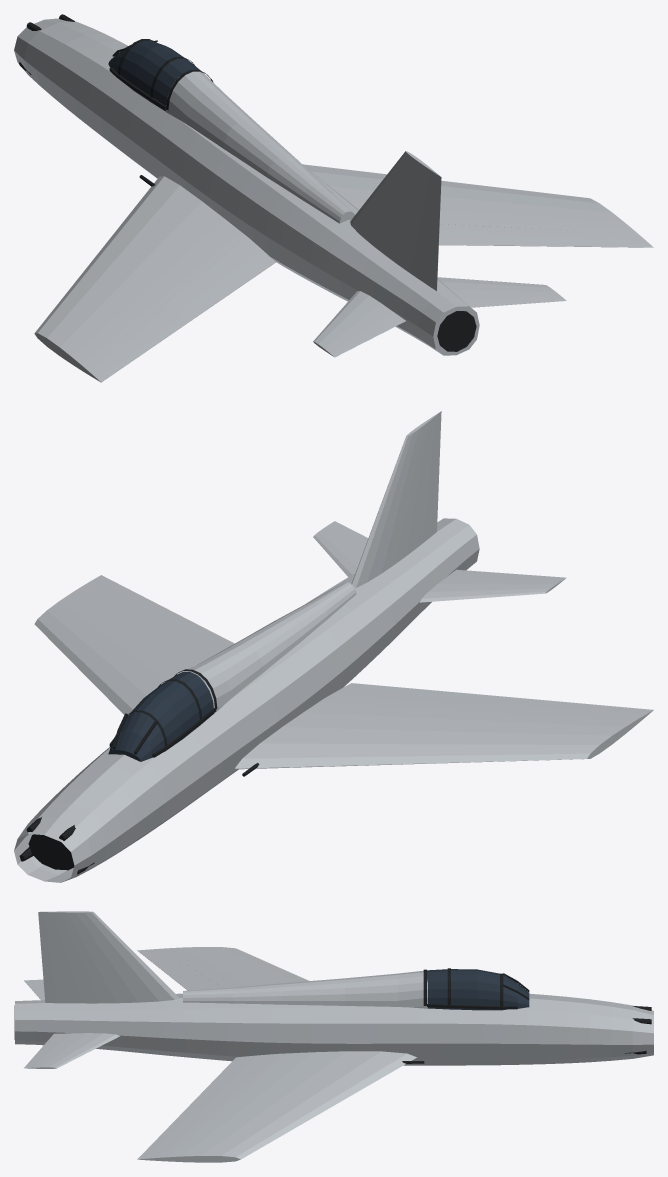
The picture shows the model from 3 angles, top to bottom: view 1: azimuth 30°, elevation 25°; view 2: azimuth 150°, elevation 25°; view 3: azimuth 270°, elevation 25°; orthographic projection. The views are drawn at different scales.
Parts seen in each view (by area): view 1: Fuselage, Wing L, Wing R, Dorsal Fairing, Vertical Fin, Flap L, Elevator L, Rudder, Cockpit Glass, Elevator R, Aileron L, Aileron R (+3 smaller); view 2: Fuselage, Wing L, Wing R, Dorsal Fairing, Vertical Fin, Cockpit Glass, Elevator L, Rudder, Flap L, Aileron L, Elevator R, Aileron R (+3 smaller); view 3: Fuselage, Wing R, Dorsal Fairing, Vertical Fin, Wing L, Rudder, Cockpit Glass, Elevator R, Flap R, Aileron R, Aileron L, Canopy Frame.
Boxes of the visible parts, x1,y1,x2,y2 form: Fuselage: [14, 18, 479, 355]; Wing L: [34, 175, 275, 382]; Wing R: [303, 164, 653, 247]; Dorsal Fairing: [166, 71, 354, 223]; Vertical Fin: [350, 151, 429, 266]; Flap L: [167, 243, 267, 322]; Elevator L: [313, 291, 405, 357]; Rudder: [401, 167, 441, 290]; Cockpit Glass: [108, 40, 202, 111]; Elevator R: [437, 277, 566, 307]; Aileron L: [93, 306, 182, 376]; Aileron R: [491, 226, 638, 247]; Fuselage: [14, 518, 479, 882]; Wing L: [235, 683, 653, 776]; Wing R: [34, 575, 209, 714]; Dorsal Fairing: [183, 582, 356, 713]; Vertical Fin: [351, 420, 429, 588]; Cockpit Glass: [108, 672, 213, 761]; Elevator L: [419, 569, 566, 602]; Rudder: [408, 411, 441, 554]; Flap L: [339, 684, 502, 708]; Aileron L: [491, 697, 638, 718]; Elevator R: [313, 521, 368, 576]; Aileron R: [93, 579, 182, 629]; Fuselage: [15, 993, 653, 1065]; Wing R: [137, 1051, 424, 1162]; Dorsal Fairing: [183, 970, 427, 1008]; Vertical Fin: [58, 911, 179, 1003]; Wing L: [137, 947, 308, 989]; Rudder: [38, 911, 94, 1003]; Cockpit Glass: [427, 969, 529, 1010]; Elevator R: [24, 1033, 119, 1068]; Flap R: [187, 1059, 273, 1108]; Aileron R: [142, 1109, 216, 1154]; Aileron L: [142, 952, 216, 987]; Canopy Frame: [423, 968, 529, 1009].
Bounding box in the file's own units: 10.24 × 3.4 × 13.25.
